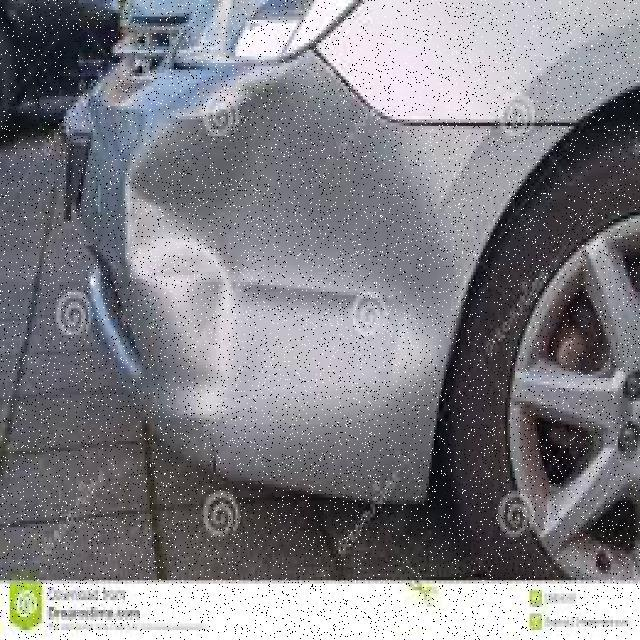front-bumper-dent: (7, 63, 524, 527)
